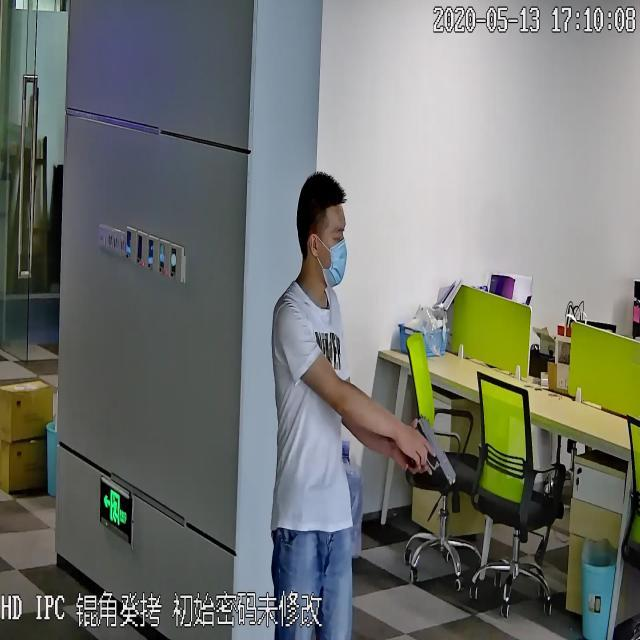gun: (405, 406, 459, 492)
